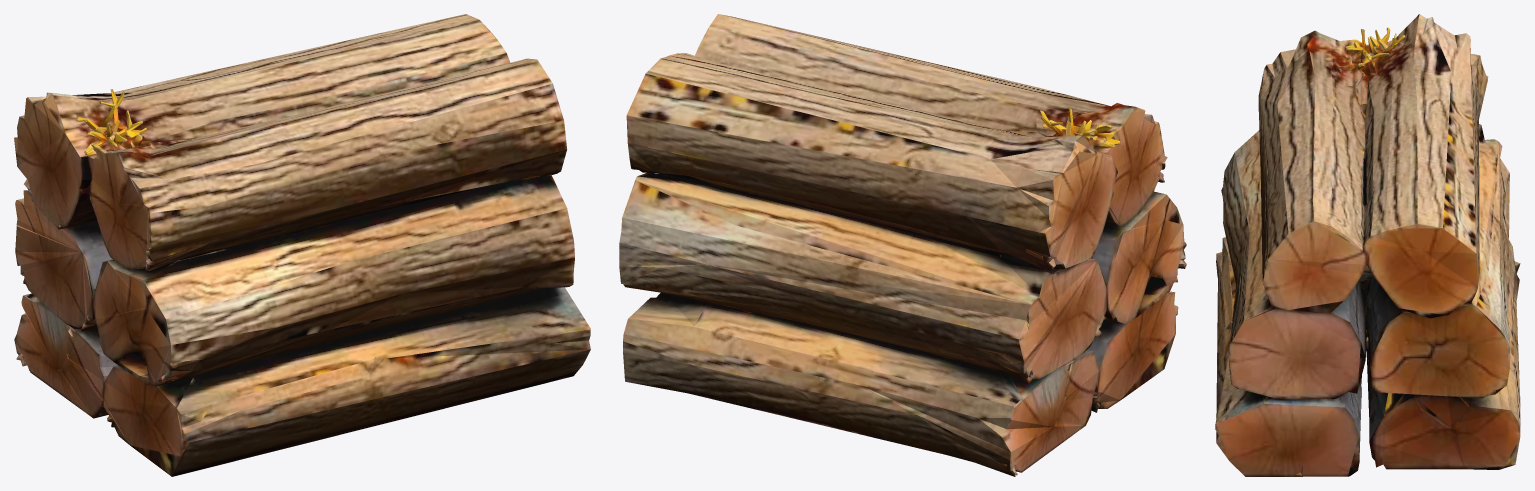
The model's file is prop_logs_02.glb.
The picture shows the model from 3 angles, left to right: view 1: azimuth 30°, elevation 25°; view 2: azimuth 150°, elevation 25°; view 3: azimuth 270°, elevation 25°; orthographic projection. The views are drawn at different scales.
Parts seen in each view (by area): view 1: geometry_0; view 2: geometry_0; view 3: geometry_0.
Part boxes in pixels (x1,y1,x2,y2): geometry_0: (14, 14, 590, 476); geometry_0: (619, 14, 1186, 476); geometry_0: (1215, 14, 1520, 476).
Bounding box in the file's own units: 0.9981 × 0.6976 × 0.6873.
1 material, 1 textured.
